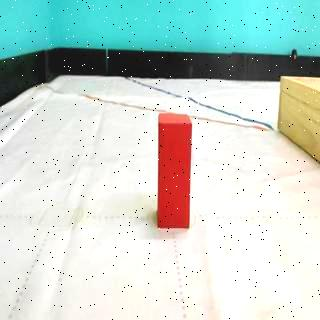redbox: (156, 112, 193, 228)
